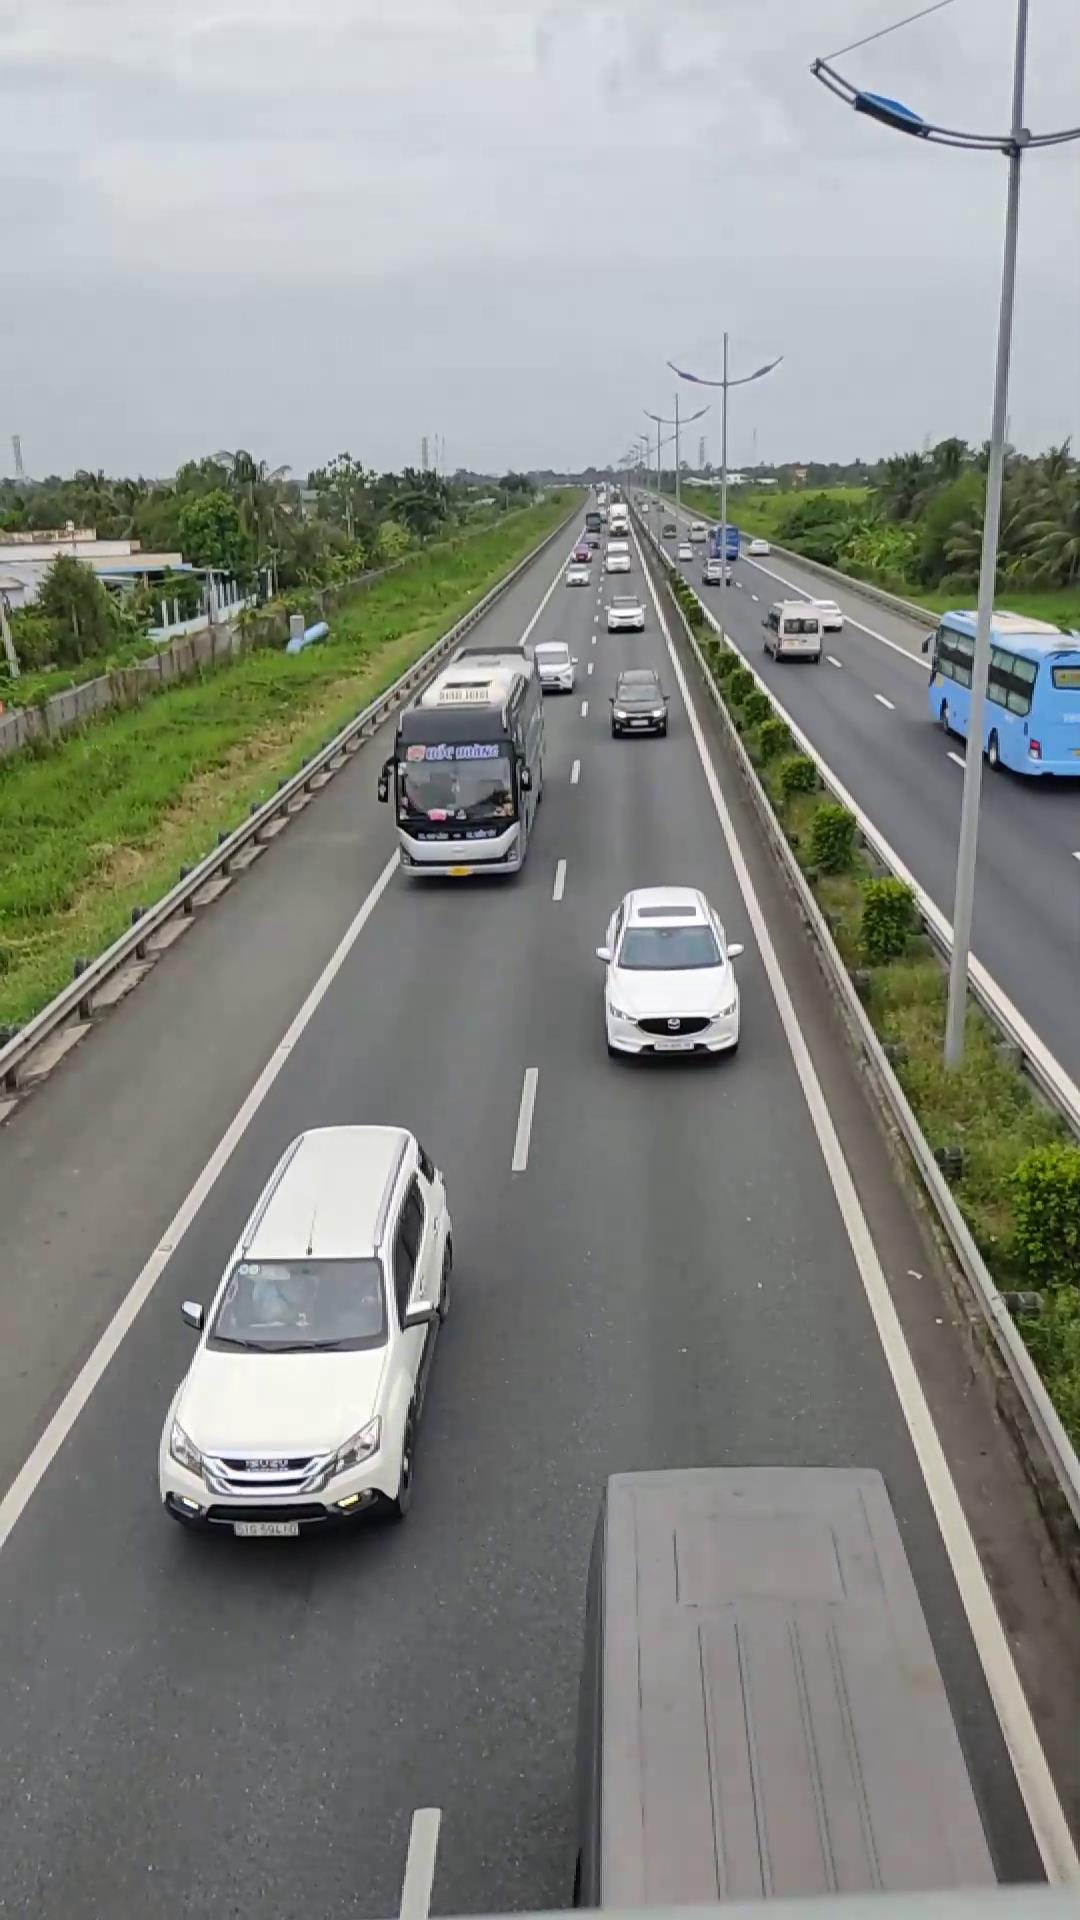bus: (384, 647, 545, 880)
car: (154, 1120, 456, 1538), (595, 884, 744, 1062), (607, 670, 671, 736)
